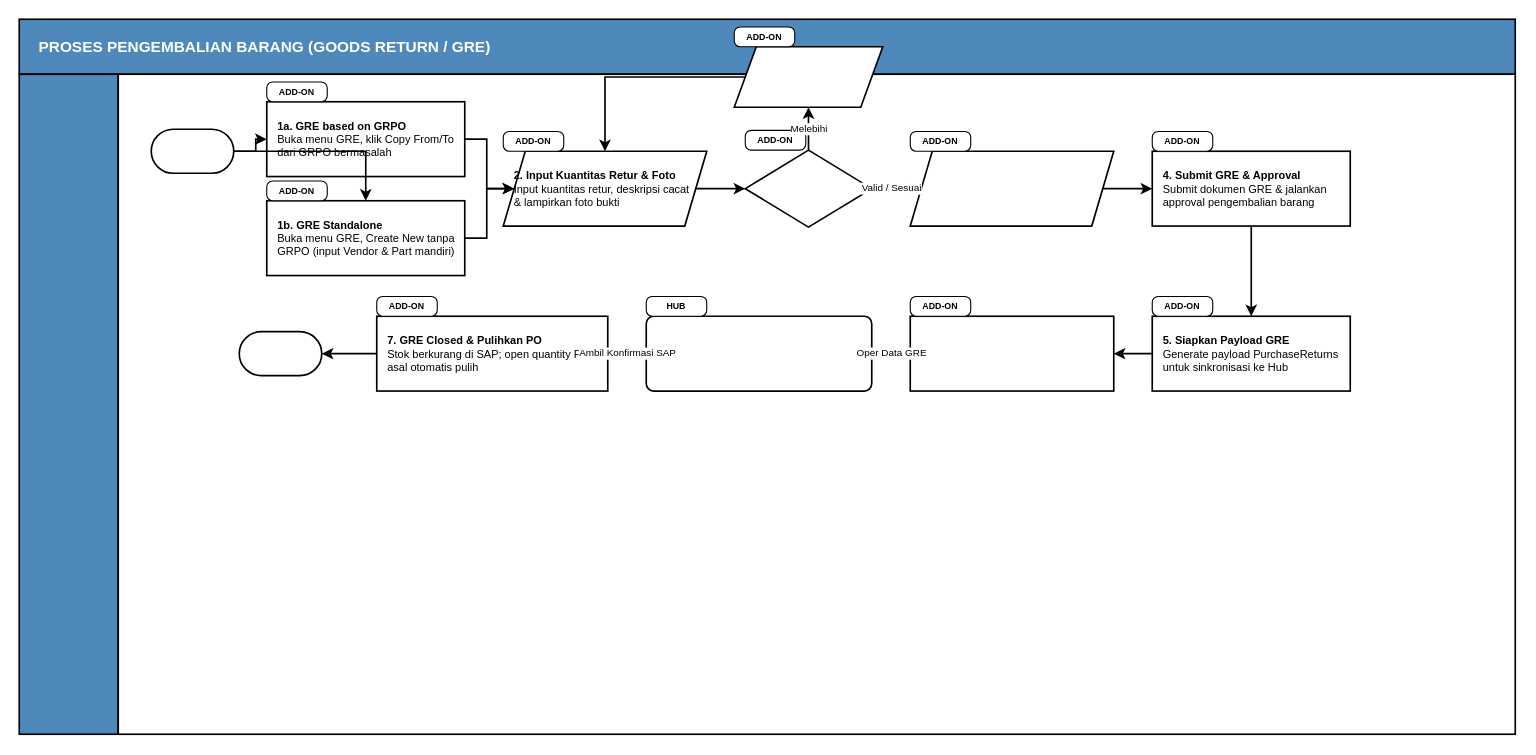
Image size: 1536x755. Some labels were removed from this diagram. Here are the shapes that lost their labels. From the top down, the centre of each, then its label:
At point 808,76: "Quantity Guard Tolak submit jika kuantitas melebihi sisa acuan GRPO".
At point 192,151: "Mulai".
At point 808,188: "Qty Retur <= Batas Acuan?".
At point 1011,188: "3. Lengkapi Ekspedisi Retur Input nama ekspedisi, resi pengiriman & alasan retur".
At point 280,353: "Selesai".
At point 758,353: "Integration Hub Ingestion Buffer GRE & OData Sync ke SAP B1".
At point 1011,353: "6. Kirim Payload ke Hub Inisiasi sinkronisasi retur ke Hub (potong stok IBT One)".
At point 68,404: "IBT One (Add-on)".
